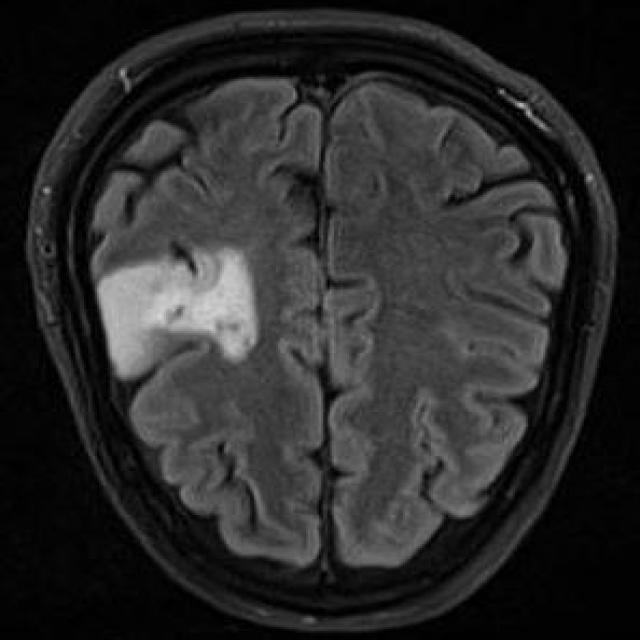Tumor-Cell: (78, 236, 276, 369)
